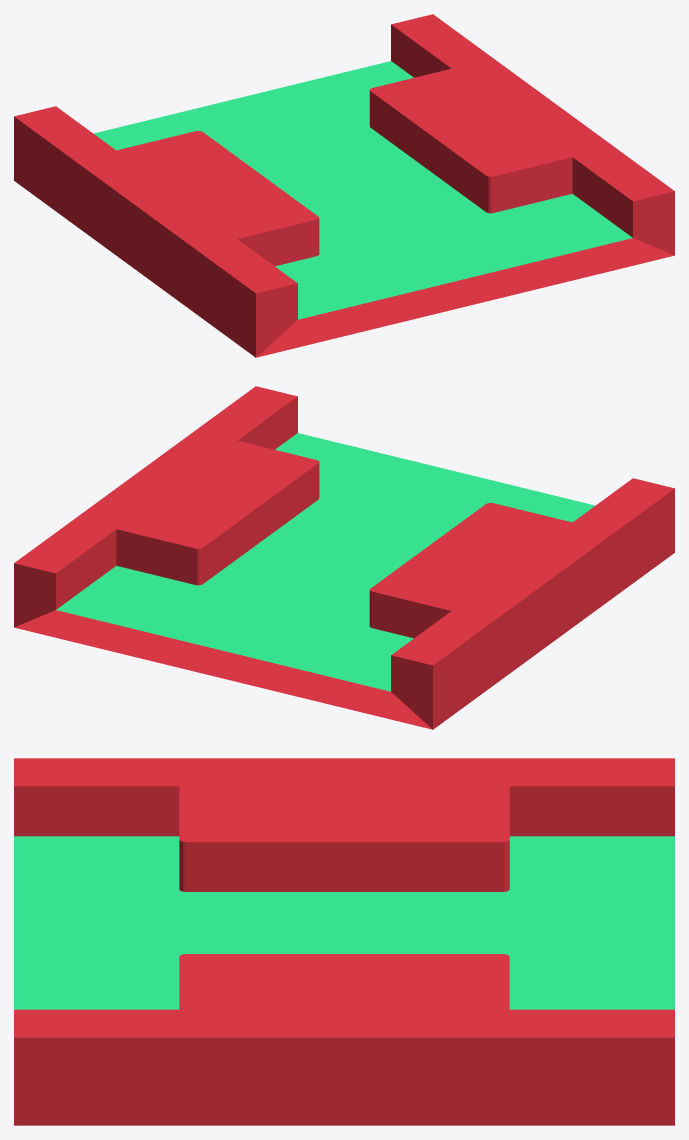
File: narrowBlock.fbx
The picture shows the model from 3 angles, top to bottom: view 1: azimuth 30°, elevation 25°; view 2: azimuth 150°, elevation 25°; view 3: azimuth 270°, elevation 25°; orthographic projection. The views are drawn at different scales.
Visible parts, largest first — view 1: narrowBlock; view 2: narrowBlock; view 3: narrowBlock.
Part boxes in pixels (x1,y1,x2,y2): narrowBlock: [14, 14, 674, 357]; narrowBlock: [14, 386, 674, 729]; narrowBlock: [14, 758, 674, 1125].
Bounding box in the file's own units: 99.99 × 99.99 × 14.67.
